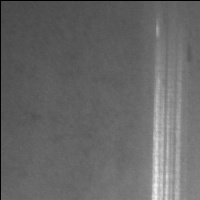scratches: (150, 19, 183, 200)
